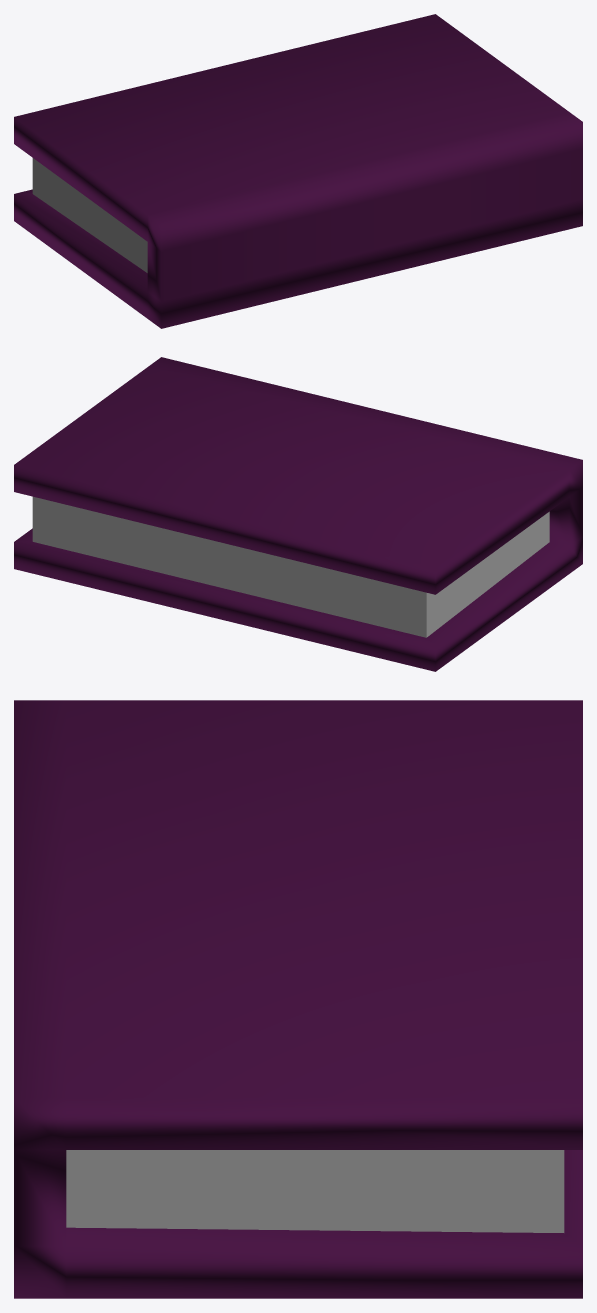
The model's file is PurpleBook.fbx.
3 renders of one model, top to bottom at view 1: azimuth 30°, elevation 25°; view 2: azimuth 150°, elevation 25°; view 3: azimuth 270°, elevation 25°, orthographic. The views are drawn at different scales.
Parts seen in each view (by area): view 1: Cube; view 2: Cube; view 3: Cube.
Boxes of the visible parts, <box> form: Cube: <box>14,14,582,328</box>; Cube: <box>14,357,582,671</box>; Cube: <box>14,700,582,1298</box>.
Bounding box in the file's own units: 330 × 77.95 × 200.
